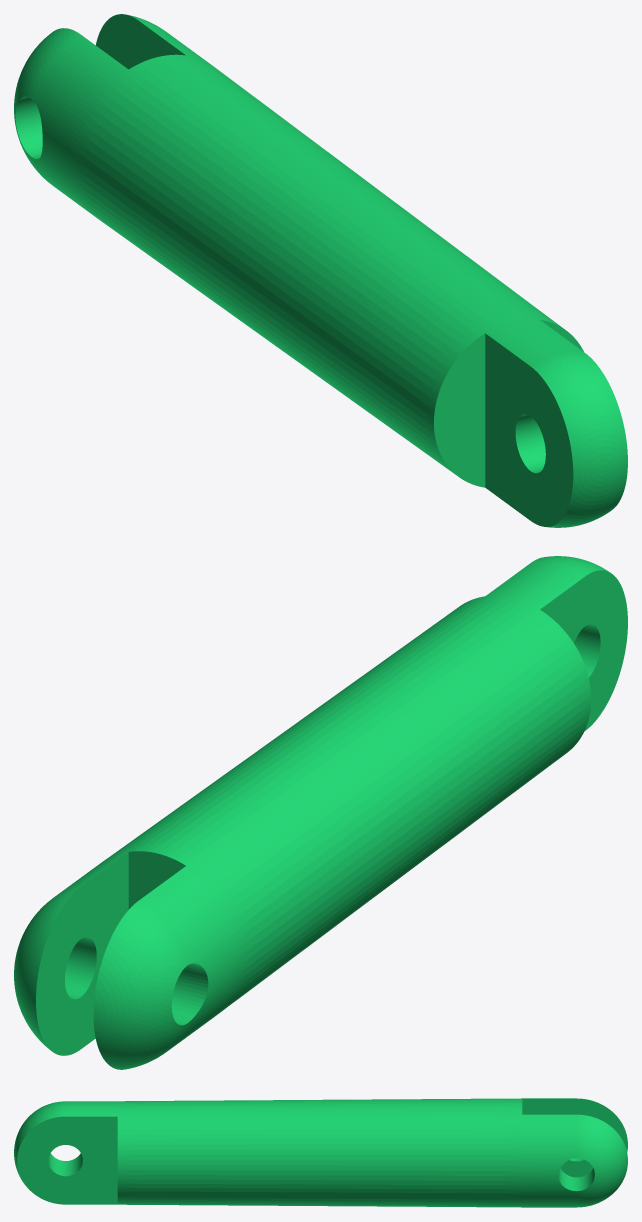
The picture shows the model from 3 angles, top to bottom: view 1: azimuth 30°, elevation 25°; view 2: azimuth 150°, elevation 25°; view 3: azimuth 270°, elevation 25°; orthographic projection. The views are drawn at different scales.
Visible parts, largest first — view 1: node; view 2: node; view 3: node.
Part boxes in pixels (<box>): node: <box>14,14,627,527</box>; node: <box>14,556,627,1069</box>; node: <box>14,1098,627,1207</box>.
Size of the model in its own units: 0.0808 by 0.0808 by 0.455.
